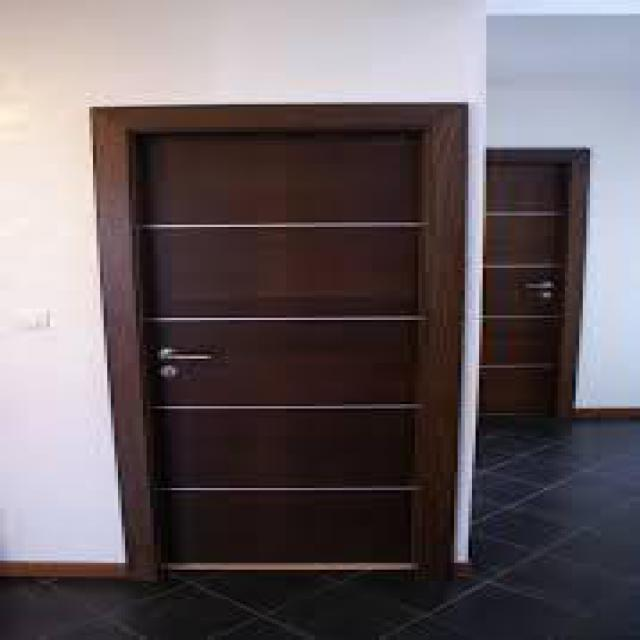close: (72, 84, 479, 583)
